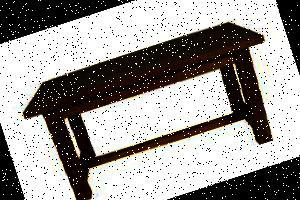Mesa: (16, 11, 297, 199)
